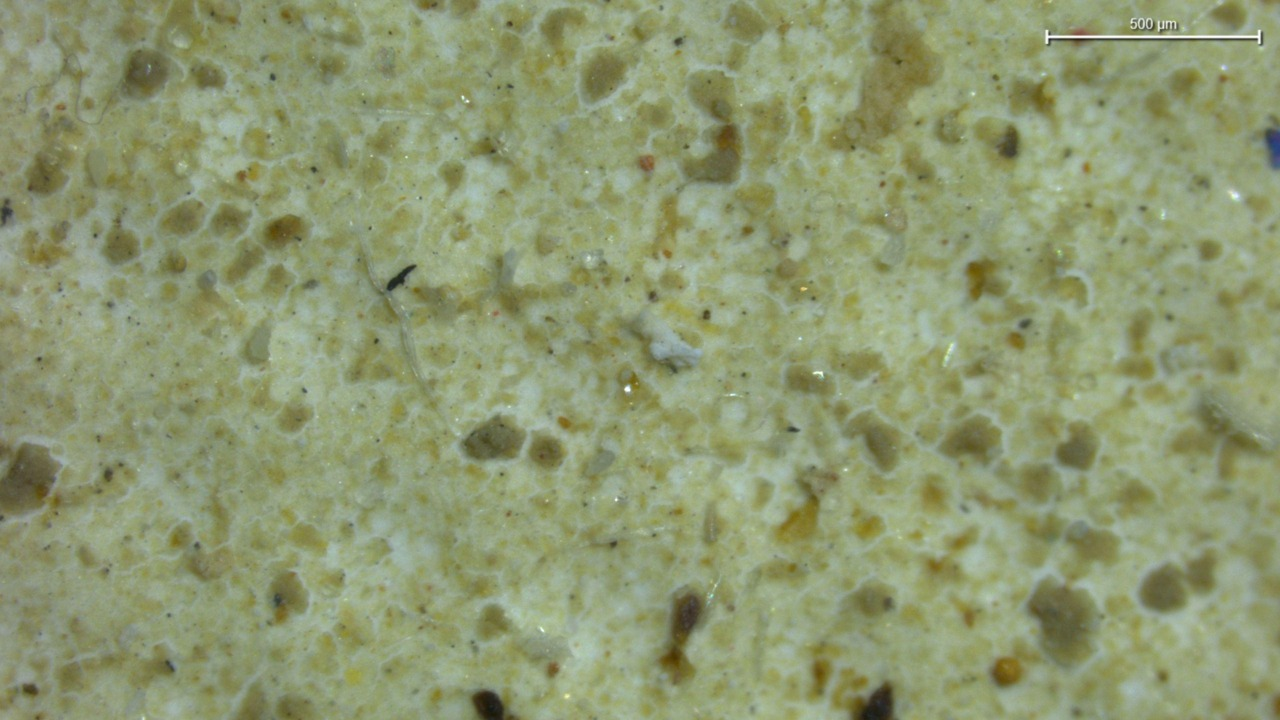microplastic_fragment: (632, 310, 702, 371), (879, 232, 907, 266), (497, 249, 518, 287), (587, 449, 616, 475)
